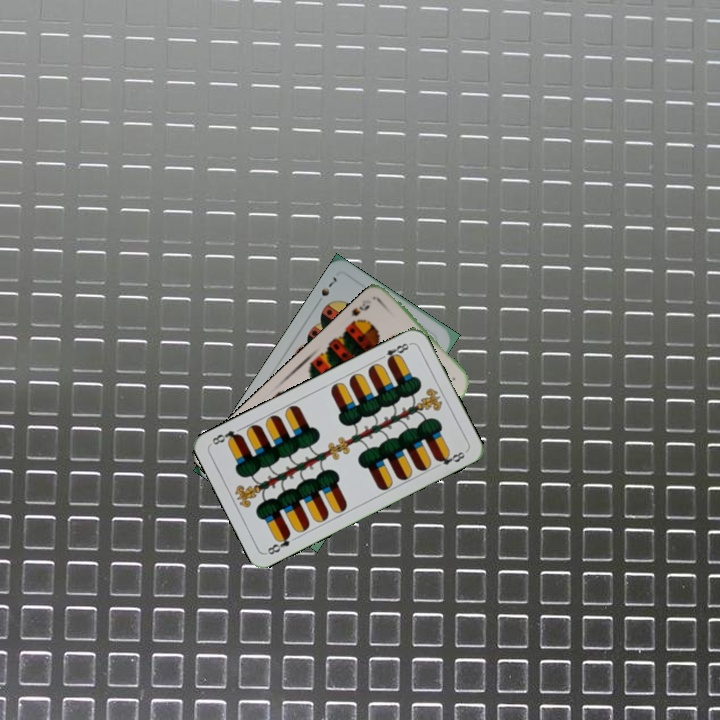E8: (375, 339, 414, 365), (263, 529, 293, 557)
S7: (312, 272, 339, 307)
S9: (346, 295, 374, 329)
